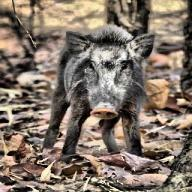boar: (40, 23, 156, 164)
